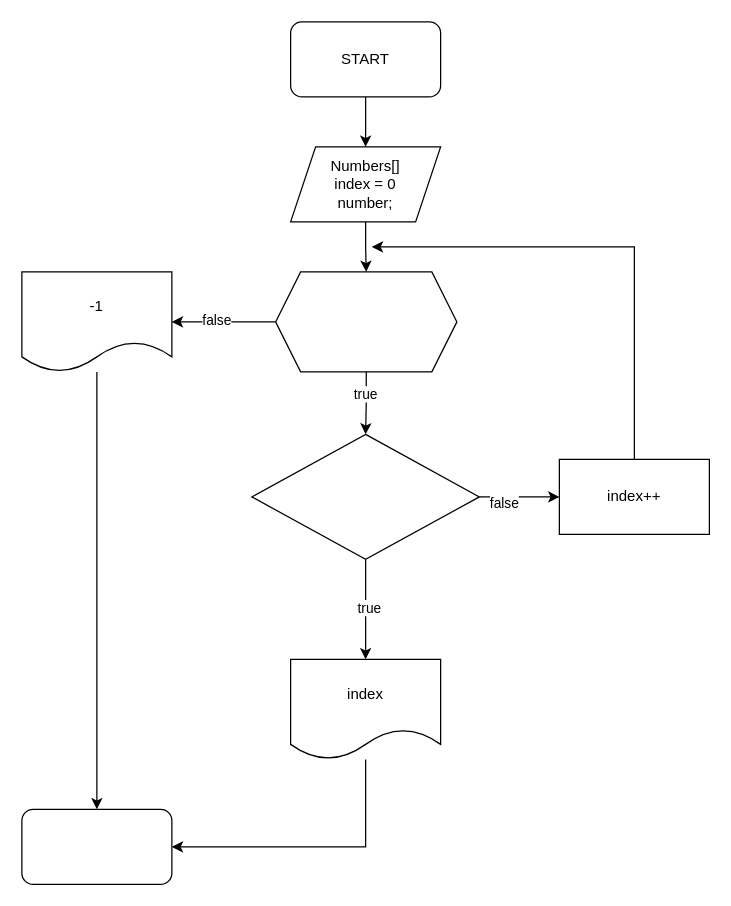
Some shapes in this 731 by 906 pixel diagram are drawn without their labels. The shapes that lost their labels are listed below. From the top down, each one's centre as x and y in pixels, then its label:
At (365,321): "Numbers.Length > index".
At (365,496): "Numbers[index] == number".
At (96,846): "END".
